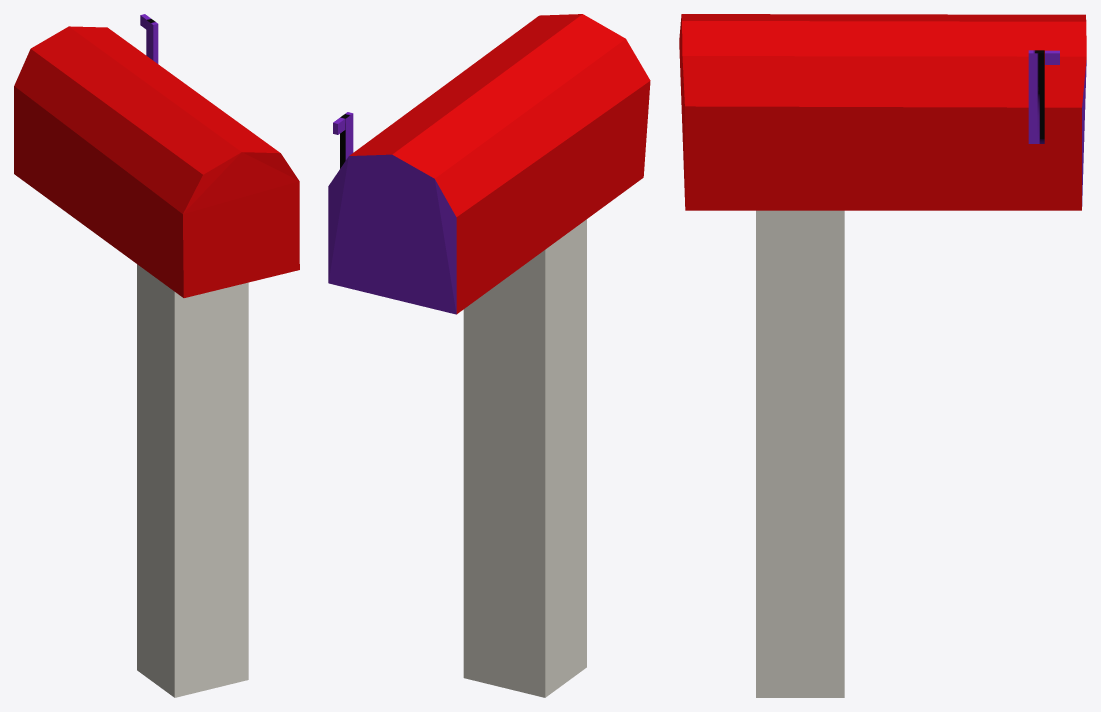
Rendered from Mailbox.fbx.
3 views of the same model, side by side, from view 1: azimuth 30°, elevation 25°; view 2: azimuth 150°, elevation 25°; view 3: azimuth 270°, elevation 25° (orthographic). The views are drawn at different scales.
Parts seen in each view (by area): view 1: Cube.002; view 2: Cube.002; view 3: Cube.002.
Part boxes in pixels (x1,y1,x2,y2): Cube.002: (14, 14, 299, 697); Cube.002: (328, 14, 650, 697); Cube.002: (679, 14, 1086, 697).
Size of the model in its own units: 83.47 by 360 by 202.
